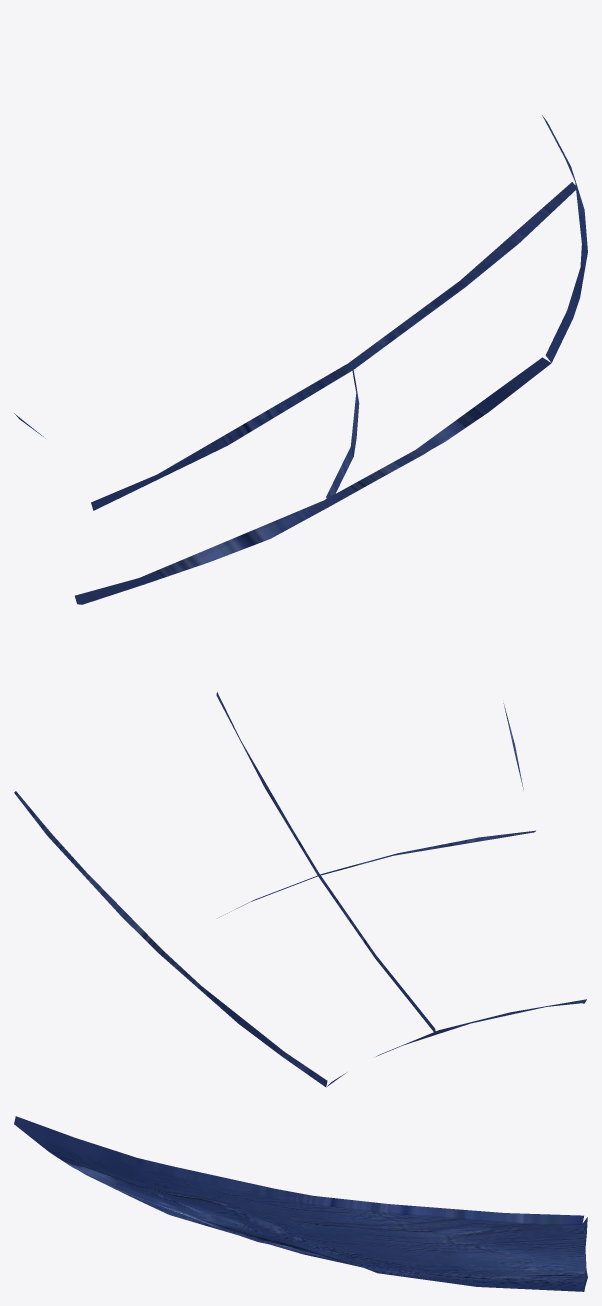
3 renders of one model, top to bottom at view 1: azimuth 30°, elevation 25°; view 2: azimuth 150°, elevation 25°; view 3: azimuth 270°, elevation 25°, orthographic. The views are drawn at different scales.
Bounding box in the file's own units: 2826898 × 1436845 × 3231504.
Materials: 1 (1 with a texture image).
